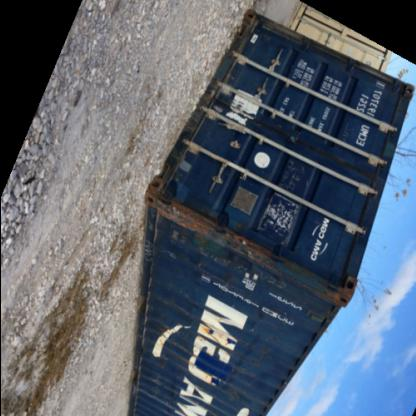Damage: (153, 197, 285, 280), (220, 330, 260, 396), (318, 273, 355, 309), (278, 154, 308, 196), (146, 316, 178, 350), (148, 372, 172, 405), (200, 321, 224, 341)
